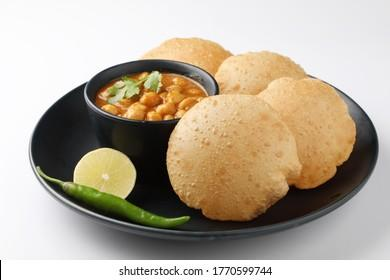puri: (186, 34, 354, 223)
